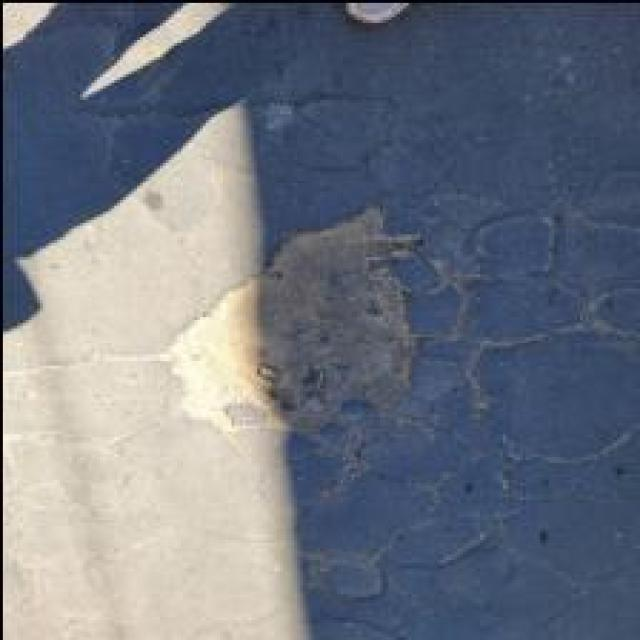BACHE: (175, 207, 418, 436)
PIEL DE COCODRILO: (0, 86, 639, 639), (0, 2, 275, 287)
